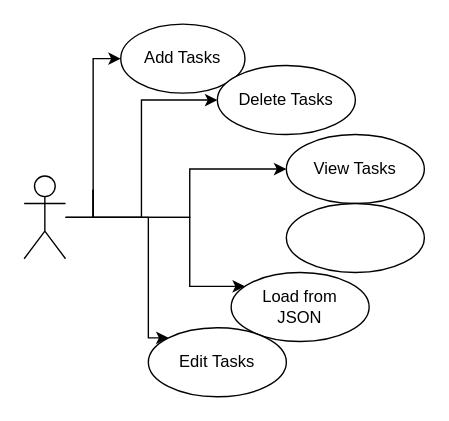
The diagram is 449 pixels wide and 421 high, and some of its shapes have lost their labels. The shapes that lost their labels are listed below. From the top down, each one's centre as x and y in pixels, then its label:
At point 44,217: "User".
At point 354,237: "Save to JSON".
